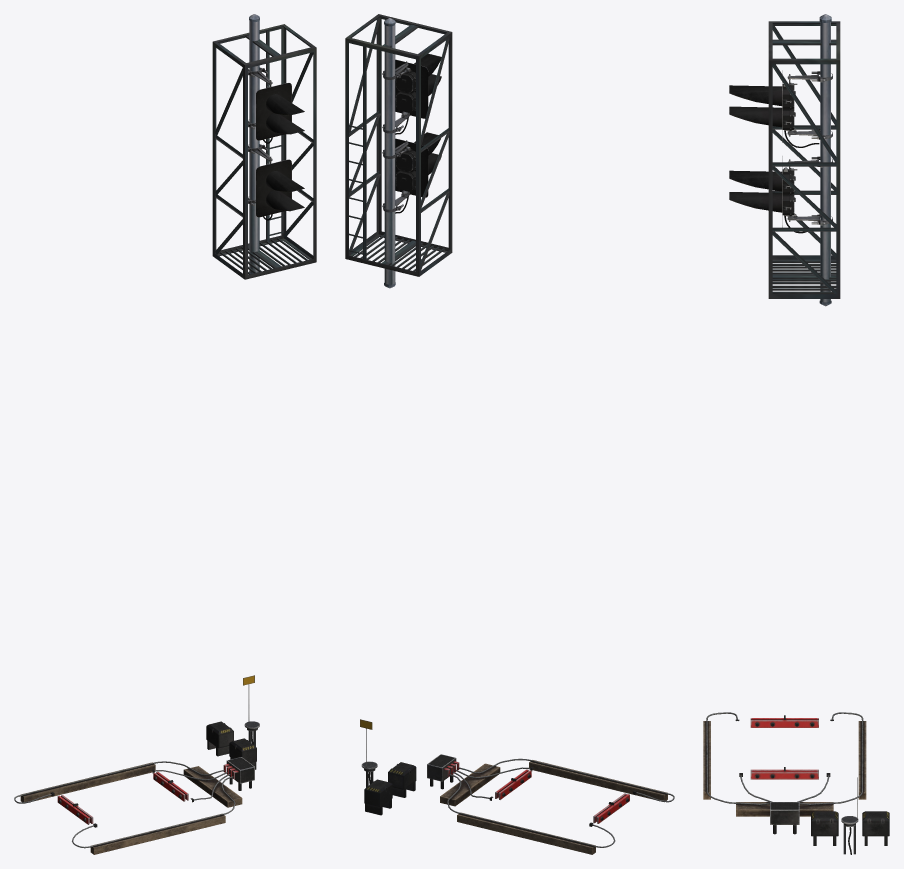
File: RM_sig_RM1_2+2_exit.gltf
The picture shows the model from 3 angles, left to right: view 1: azimuth 30°, elevation 25°; view 2: azimuth 150°, elevation 25°; view 3: azimuth 270°, elevation 25°; orthographic projection. The views are drawn at different scales.
Parts seen in each view (by area): view 1: Object_1, Изостык, Object003, Object002; view 2: Object_1, Изостык, Object003, Object002; view 3: Object_1, Изостык, Object003, Object002.
Boxes of the visible parts, x1,y1,x2,y2 form: Object_1: (212,14,316,279); Изостык: (14,675,259,854); Object003: (248,67,304,143); Object002: (248,144,304,220); Object_1: (345,14,452,288); Изостык: (360,719,674,854); Object003: (382,53,441,134); Object002: (382,132,441,213); Object_1: (768,14,840,306); Изостык: (703,712,889,854); Object003: (729,70,832,147); Object002: (729,156,832,233).
Bounding box in the file's own units: 4.42 × 12.01 × 2.43.
Materials: 4 (3 with a texture image).
